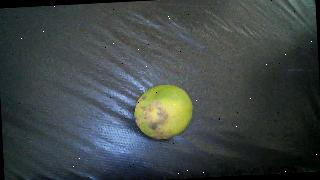DESECHO: (133, 84, 194, 141)
